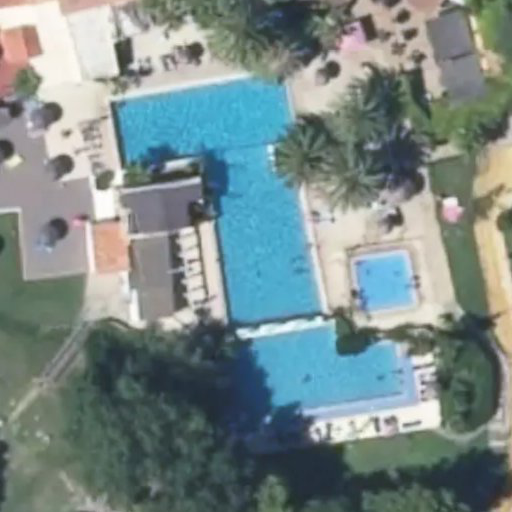pool: (95, 104, 413, 386)
